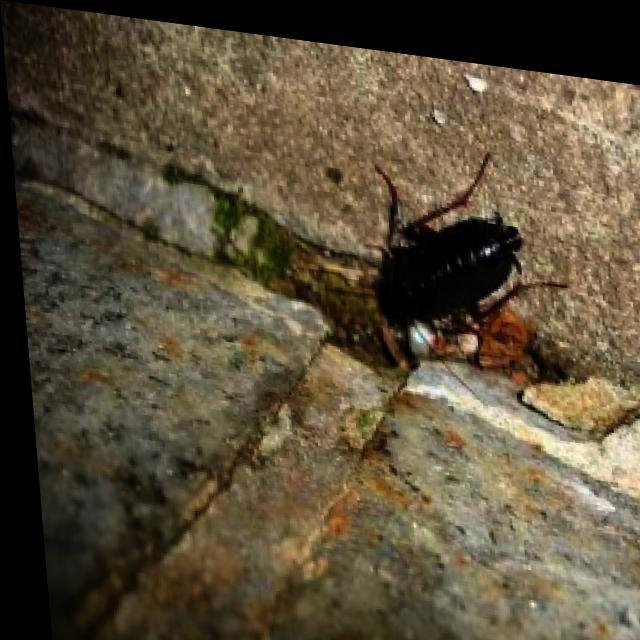cockroach: (356, 189, 566, 333)
